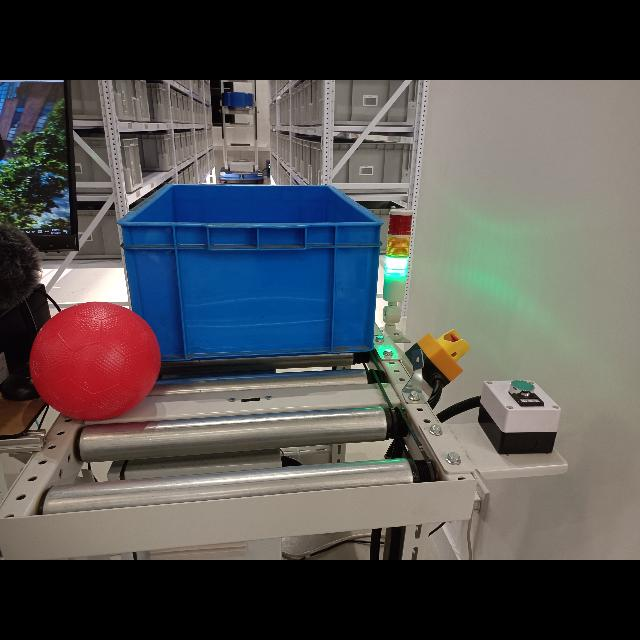R: (30, 302, 160, 420)
